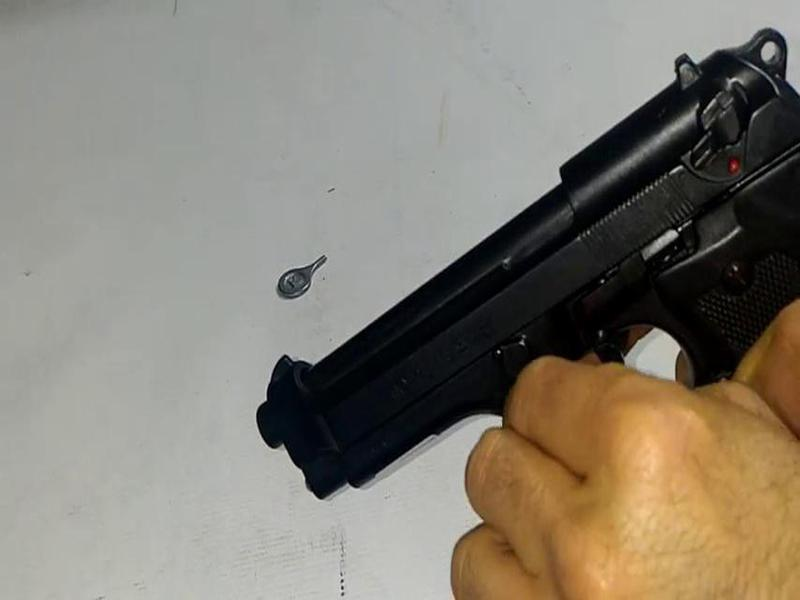Pistola: (230, 18, 800, 511)
